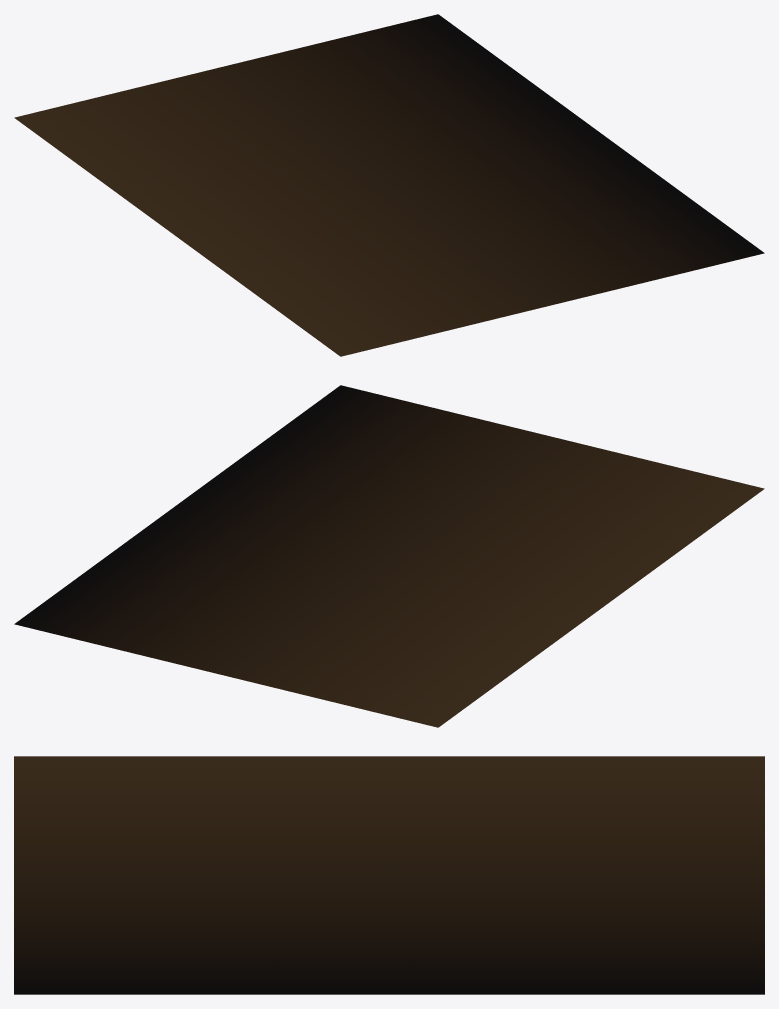
3 views of the same model, one above another, from view 1: azimuth 30°, elevation 25°; view 2: azimuth 150°, elevation 25°; view 3: azimuth 270°, elevation 25° (orthographic). The views are drawn at different scales.
Bounding box in the file's own units: 0.75 × 0 × 1.
1 material, 1 textured.
